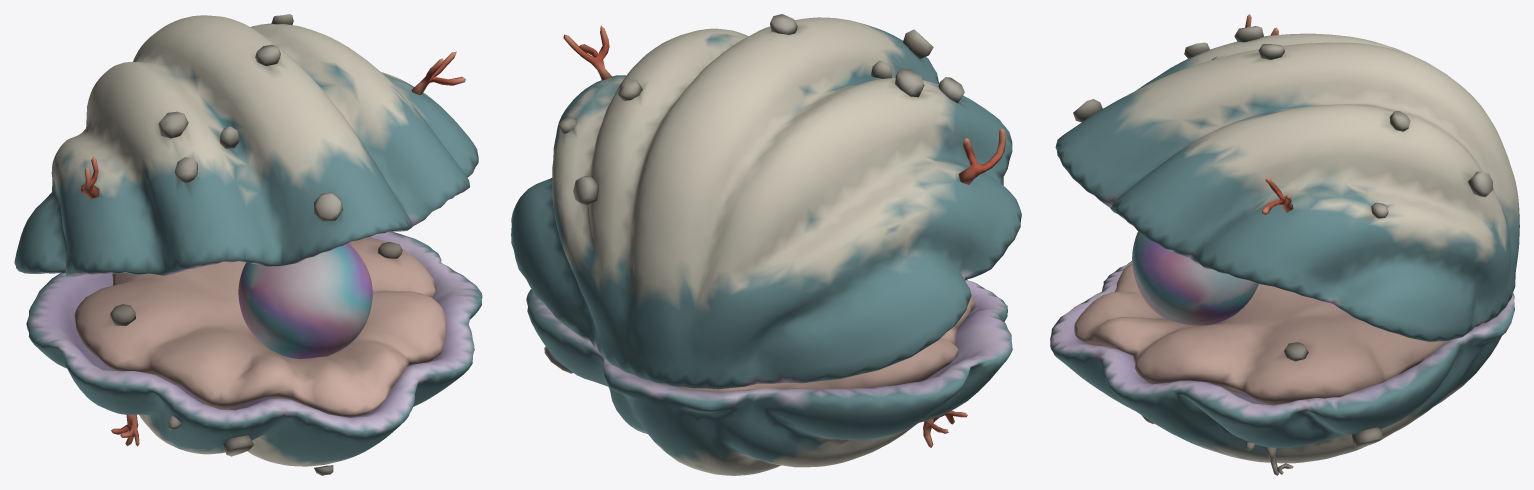
The model's file is giant-clam.glb.
The picture shows the model from 3 angles, left to right: view 1: azimuth 30°, elevation 25°; view 2: azimuth 150°, elevation 25°; view 3: azimuth 270°, elevation 25°; orthographic projection. The views are drawn at different scales.
Visible parts, largest first — view 1: clam_lid, clam_cup, clam_pearl; view 2: clam_lid, clam_cup; view 3: clam_lid, clam_cup, clam_pearl.
Boxes of the visible parts, x1=… form: clam_lid: x1=14, y1=14, x2=478, y2=277; clam_cup: x1=26, y1=232, x2=482, y2=475; clam_pearl: x1=238, y1=243, x2=372, y2=358; clam_lid: x1=511, y1=14, x2=1021, y2=389; clam_cup: x1=526, y1=279, x2=1012, y2=475; clam_lid: x1=1055, y1=14, x2=1519, y2=341; clam_cup: x1=1050, y1=261, x2=1514, y2=475; clam_pearl: x1=1132, y1=231, x2=1258, y2=325.
Bounding box in the file's own units: 0.9766 × 0.9211 × 0.9894.
